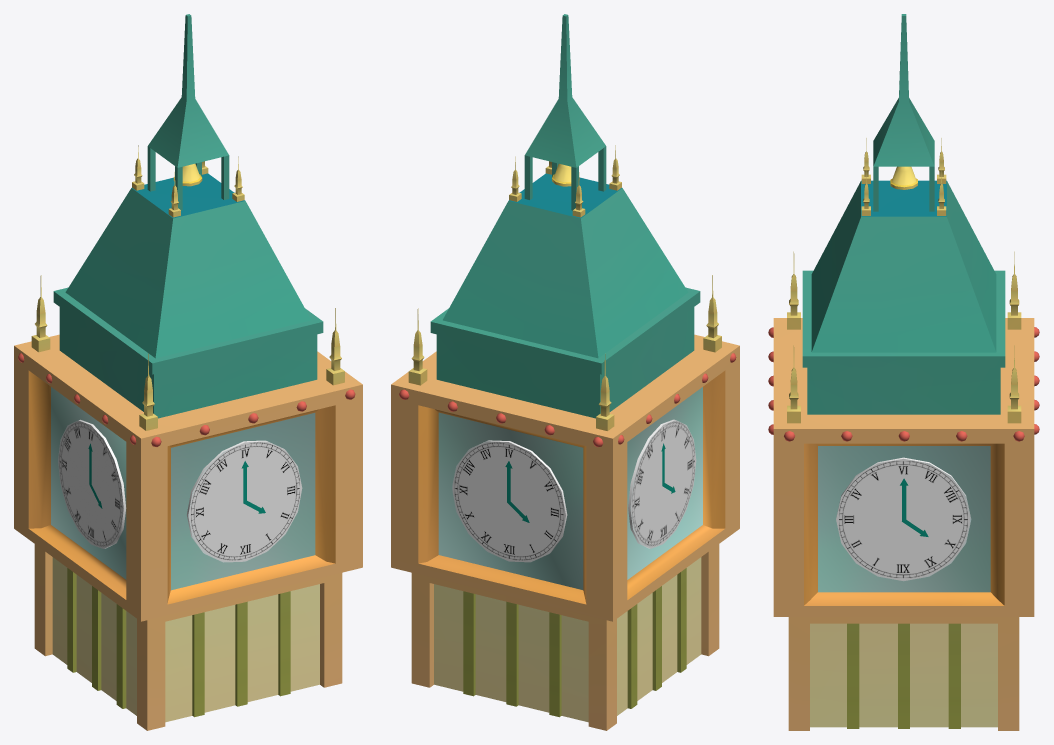
The model's file is dau_bigben.fbx.
3 views of the same model, side by side, from view 1: azimuth 30°, elevation 25°; view 2: azimuth 150°, elevation 25°; view 3: azimuth 270°, elevation 25° (orthographic). The views are drawn at different scales.
Parts seen in each view (by area): view 1: dau_Bigben; view 2: dau_Bigben; view 3: dau_Bigben.
Boxes of the visible parts, x1,y1,x2,y2 form: dau_Bigben: (14,14,362,730); dau_Bigben: (391,14,739,730); dau_Bigben: (768,14,1039,730).
Size of the model in its own units: 438 by 1188 by 438.
